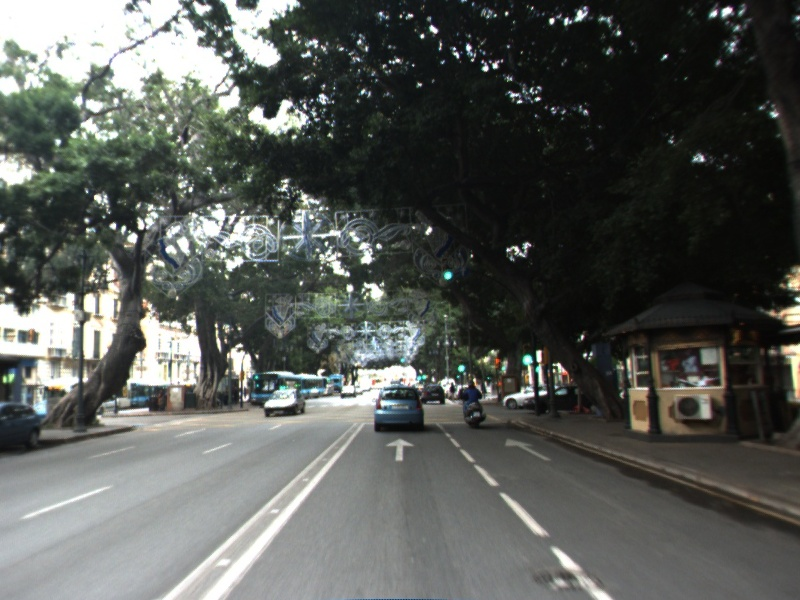STRAIGHT: (502, 436, 554, 463), (384, 436, 417, 463)
